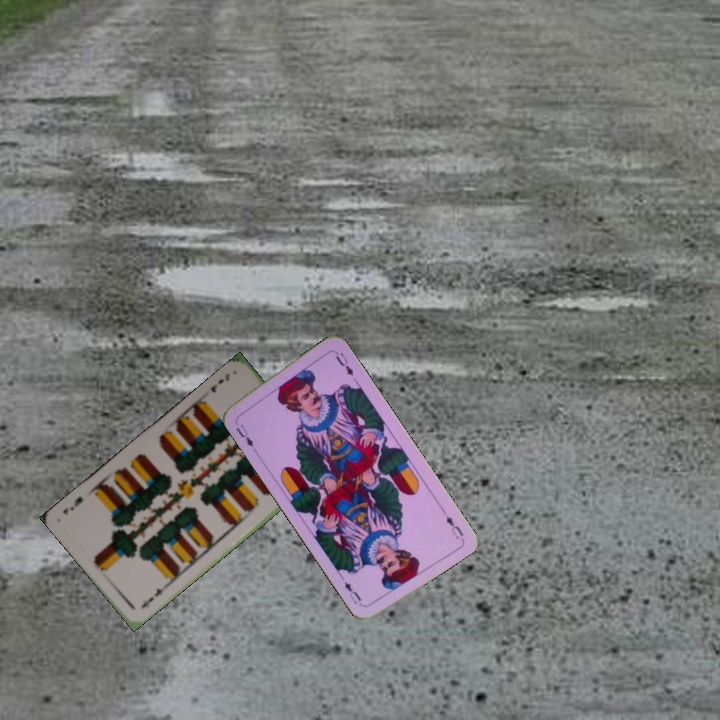E7: (137, 583, 169, 612), (207, 370, 232, 395)
EU: (437, 505, 466, 542), (232, 420, 258, 453)
